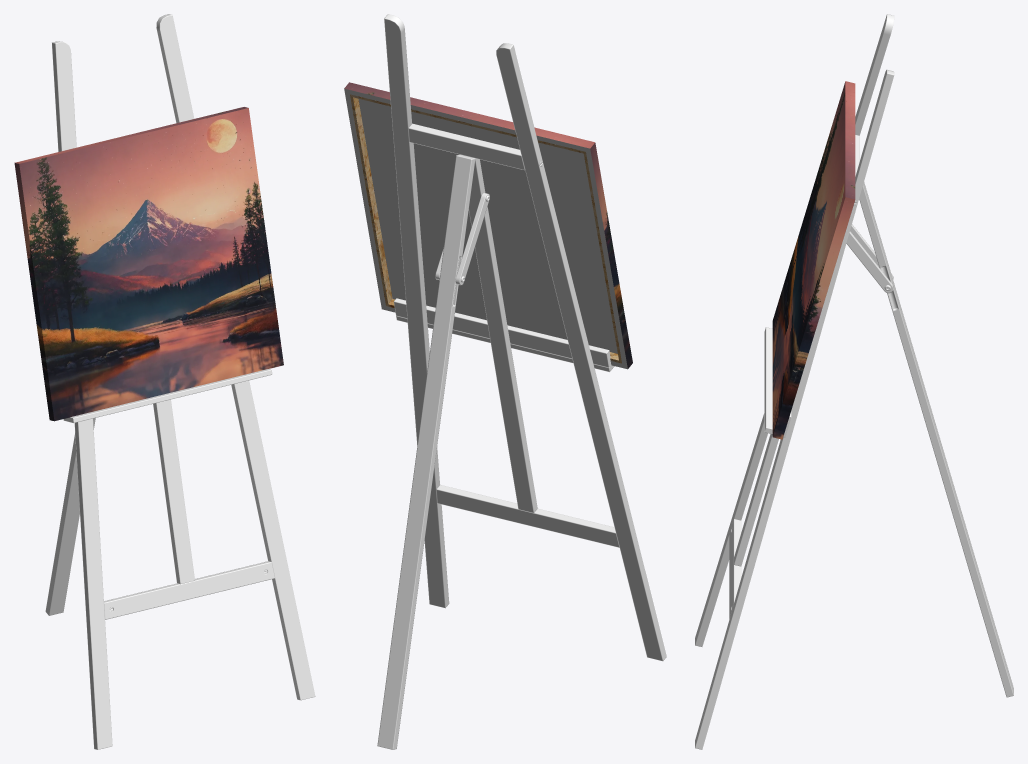
File: artstand-transformed.glb
The picture shows the model from 3 angles, left to right: view 1: azimuth 30°, elevation 25°; view 2: azimuth 150°, elevation 25°; view 3: azimuth 270°, elevation 25°; orthographic projection. The views are drawn at different scales.
Parts seen in each view (by area): view 1: Painting 4, Art stand; view 2: Art stand, Painting 4; view 3: Art stand, Painting 4.
Part boxes in pixels (x1,y1,x2,y2): Painting 4: (14,107,283,421); Art stand: (45,14,315,749); Art stand: (377,14,666,749); Painting 4: (344,82,632,369); Art stand: (695,14,1013,749); Painting 4: (772,81,855,439).
Bounding box in the file's own units: 0.5711 × 1.49 × 0.663.
Materials: 4 (2 with a texture image).
